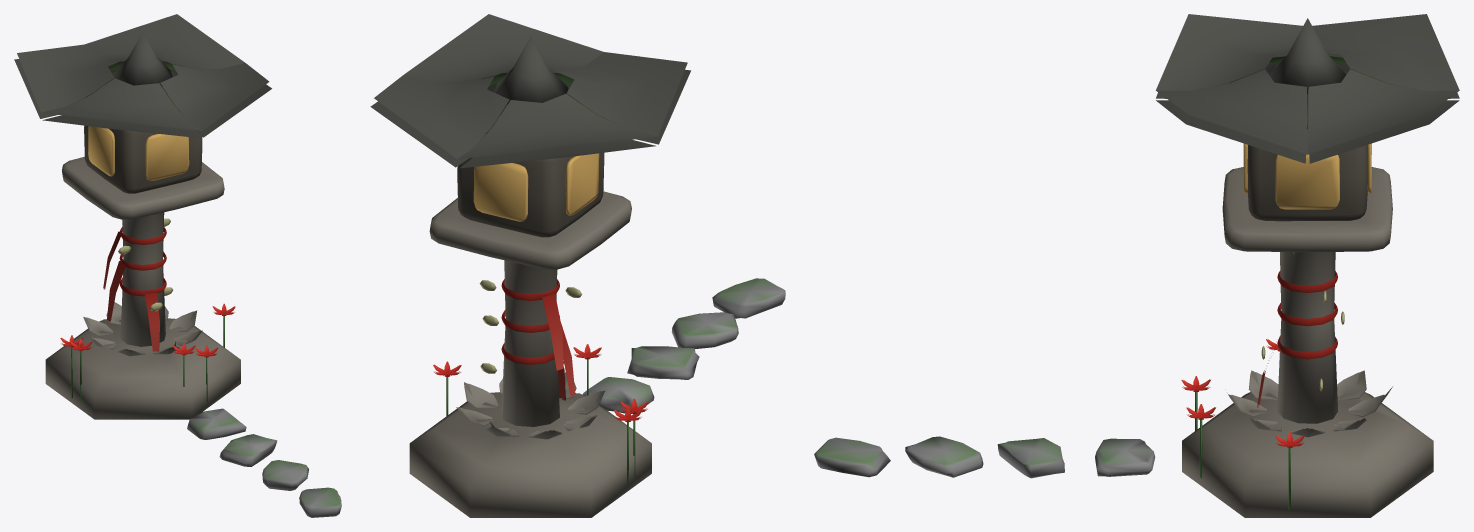
File: stonelantern.glb
3 renders of one model, left to right at view 1: azimuth 30°, elevation 25°; view 2: azimuth 150°, elevation 25°; view 3: azimuth 270°, elevation 25°, orthographic. The views are drawn at different scales.
Parts seen in each view (by area): view 1: stonelantern; view 2: stonelantern; view 3: stonelantern.
Boxes of the visible parts, x1,y1,x2,y2 form: stonelantern: (14,14,341,517); stonelantern: (370,14,785,517); stonelantern: (814,14,1459,517).
Size of the model in its own units: 1.5 by 2.47 by 3.18.
